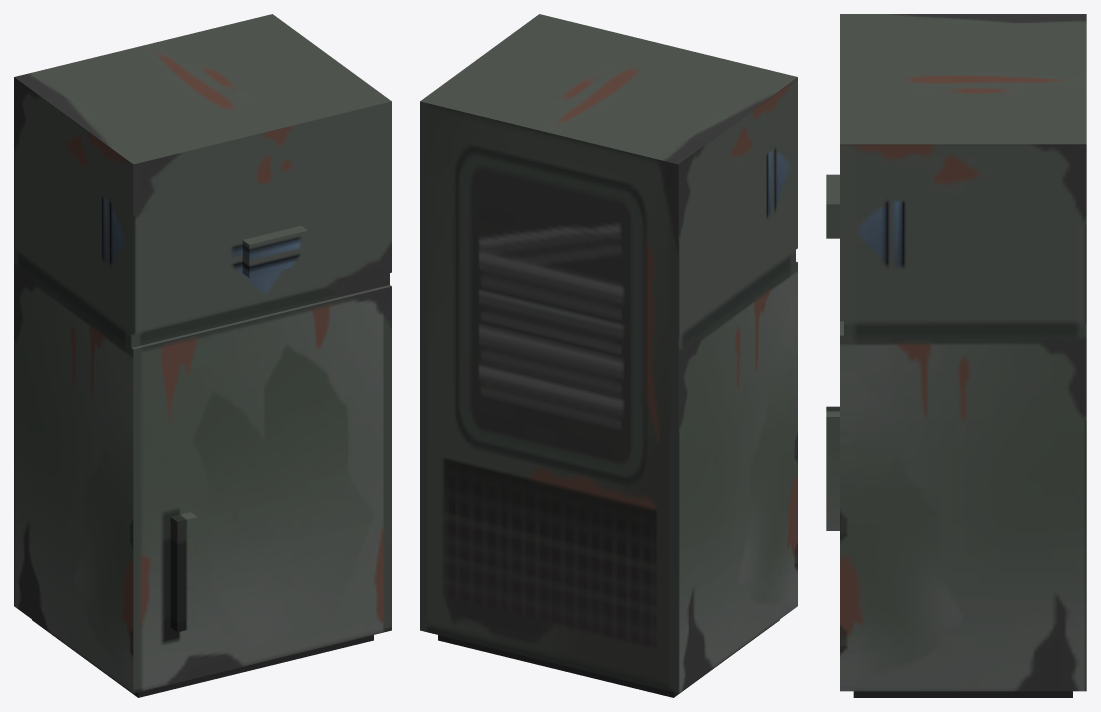
File: Building_AncientColdStorage.obj
3 renders of one model, left to right at view 1: azimuth 30°, elevation 25°; view 2: azimuth 150°, elevation 25°; view 3: azimuth 270°, elevation 25°, orthographic. The views are drawn at different scales.
Visible parts, largest first — view 1: Body; view 2: Body; view 3: Body.
Boxes of the visible parts, box(x1,y1,x2,y2) form: Body: box(14, 14, 391, 697); Body: box(420, 14, 797, 697); Body: box(826, 14, 1086, 697).
Bounding box in the file's own units: 0.9 × 1.8 × 0.76.
Materials: 1 (1 with a texture image).
